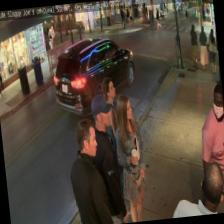person: (86, 92, 128, 224), (64, 117, 113, 224), (111, 93, 151, 224), (99, 76, 130, 218), (193, 84, 224, 214), (167, 160, 224, 217)
